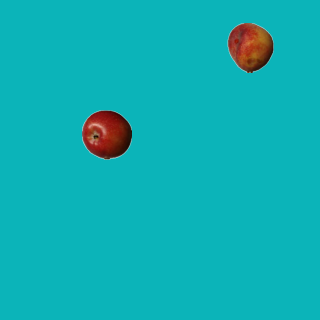Apple Braeburn: (81, 109, 131, 159)
Peach: (225, 22, 275, 72)
